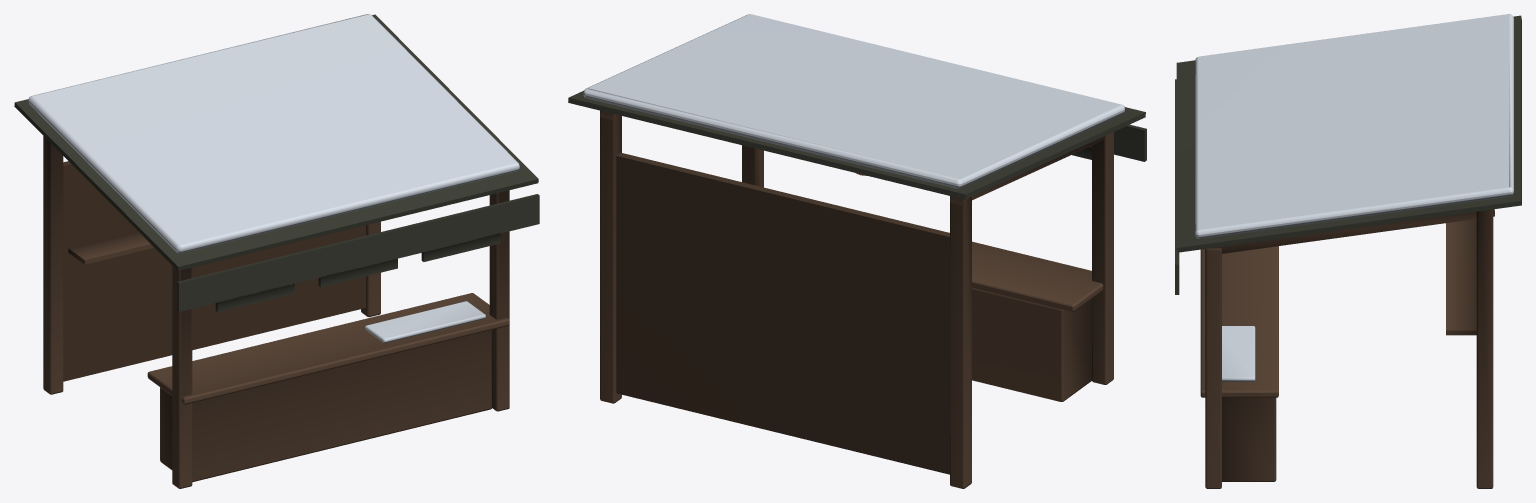
Rendered from stall_frame.glb.
The picture shows the model from 3 angles, left to right: view 1: azimuth 30°, elevation 25°; view 2: azimuth 150°, elevation 25°; view 3: azimuth 270°, elevation 25°; orthographic projection. The views are drawn at different scales.
Visible parts, largest first — view 1: StallFrame; view 2: StallFrame; view 3: StallFrame.
Boxes of the visible parts, x1=… form: StallFrame: x1=14, y1=14, x2=539, y2=488; StallFrame: x1=568, y1=14, x2=1146, y2=488; StallFrame: x1=1175, y1=14, x2=1521, y2=488.
Bounding box in the file's own units: 4.2 × 3.21 × 3.32.
